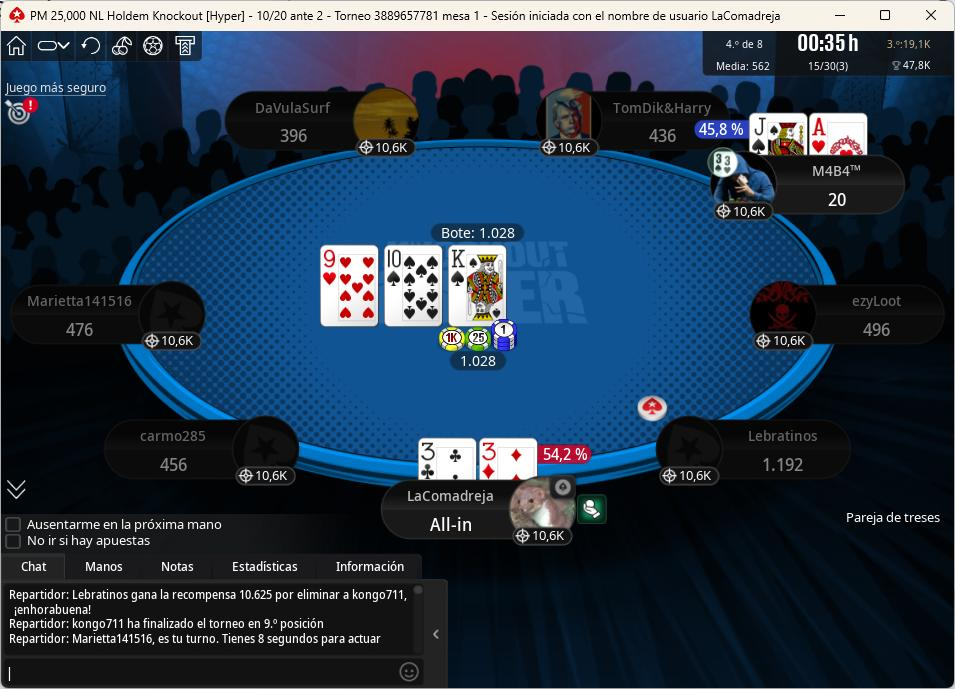Dealer: (633, 394, 671, 425)
Player: (705, 154, 912, 220), (748, 283, 949, 350), (100, 421, 304, 487), (222, 93, 417, 160), (655, 421, 854, 486), (9, 284, 207, 348), (543, 91, 733, 155)
PlayerChips: (247, 6, 332, 32), (422, 516, 485, 537), (759, 454, 816, 475), (58, 323, 104, 343), (859, 323, 902, 343), (150, 456, 195, 475), (641, 131, 689, 148), (270, 130, 319, 146), (822, 192, 858, 211)
Pot: (429, 224, 528, 244)
PrincipalCards: (412, 439, 588, 484)
PrincipalCards1: (417, 438, 478, 482)
PrincipalCards2: (475, 436, 541, 481)
PrincipalPlayer: (381, 477, 588, 552)
ShowedCards: (319, 243, 518, 330)
ShowedCards1: (318, 243, 381, 330)
ShowedCards2: (383, 244, 444, 326)
ShowedCards3: (446, 243, 510, 328)
TablePot: (427, 323, 537, 382)
